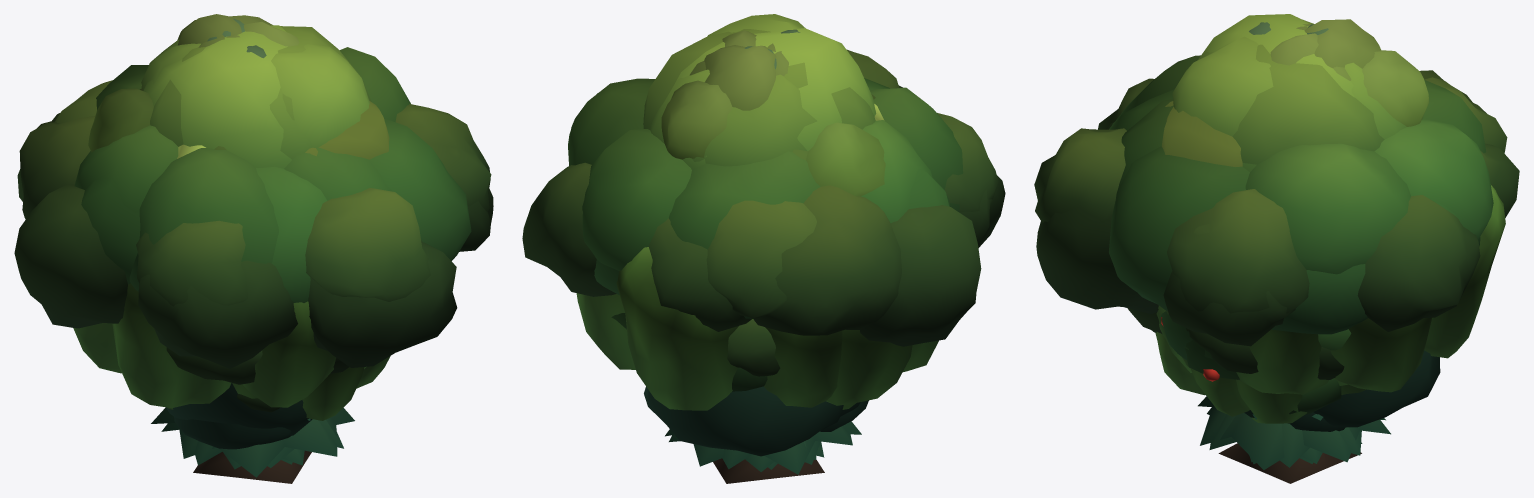
The model's file is trees.glb.
3 views of the same model, side by side, from view 1: azimuth 30°, elevation 25°; view 2: azimuth 150°, elevation 25°; view 3: azimuth 270°, elevation 25° (orthographic).
Parts seen in each view (by area): view 1: dab_duzy, buk_duzy_2, buk_duzy, dab_duzy_2, wierzba_duzy_2, brzoza_duzy_2, swierk_duzy_2, olcha_duzy, olcha_sredni, wierzba_sredni_2, dab_sredni, swierk_duzy (+1 smaller); view 2: buk_duzy, dab_duzy_2, dab_duzy, wierzba_duzy, buk_duzy_2, brzoza_duzy_2, olcha_duzy_2, wierzba_duzy_2, dab_sredni, swierk_duzy_2, swierk_duzy, brzoza_duzy (+1 smaller); view 3: buk_duzy, dab_duzy_2, dab_duzy, wierzba_duzy, buk_duzy_2, brzoza_duzy_2, swierk_duzy_2, olcha_duzy_2, wierzba_sredni, swierk_duzy, dab_sredni_2, brzoza_duzy (+7 smaller).
Part boxes in pixels (box(x1,y1,x2,y2)): dab_duzy: box(14, 80, 491, 483); buk_duzy_2: box(74, 25, 392, 291); buk_duzy: box(81, 26, 471, 302); dab_duzy_2: box(17, 101, 493, 483); wierzba_duzy_2: box(73, 144, 366, 407); brzoza_duzy_2: box(88, 14, 272, 152); swierk_duzy_2: box(151, 407, 354, 477); olcha_duzy: box(166, 45, 312, 435); olcha_sredni: box(174, 416, 291, 449); wierzba_sredni_2: box(167, 367, 364, 420); dab_sredni: box(166, 347, 349, 384); swierk_duzy: box(161, 416, 343, 467); buk_duzy: box(568, 14, 949, 318); dab_duzy_2: box(522, 49, 998, 483); dab_duzy: box(597, 93, 1005, 483); wierzba_duzy: box(576, 247, 842, 410); buk_duzy_2: box(582, 28, 963, 294); brzoza_duzy_2: box(661, 45, 885, 196); olcha_duzy_2: box(644, 46, 843, 456); wierzba_duzy_2: box(826, 104, 938, 405); dab_sredni: box(727, 319, 780, 376); swierk_duzy_2: box(665, 426, 852, 474); swierk_duzy: box(669, 421, 861, 469); brzoza_duzy: box(689, 30, 807, 160); buk_duzy: box(1109, 19, 1493, 311); dab_duzy_2: box(1034, 70, 1519, 451); dab_duzy: box(1036, 77, 1507, 483); wierzba_duzy: box(1166, 185, 1505, 394); buk_duzy_2: box(1109, 14, 1480, 334); brzoza_duzy_2: box(1303, 19, 1428, 126); swierk_duzy_2: box(1198, 396, 1390, 469); olcha_duzy_2: box(1307, 24, 1440, 427); wierzba_sredni: box(1190, 368, 1366, 423); swierk_duzy: box(1207, 407, 1385, 467); dab_sredni_2: box(1151, 314, 1258, 373); brzoza_duzy: box(1270, 26, 1351, 80).
Size of the model in its own units: 30.28 by 28.52 by 29.41.
